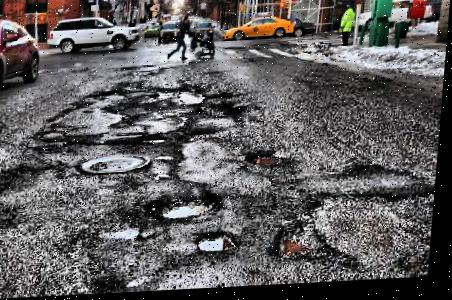pothole: (153, 194, 225, 225), (274, 229, 320, 264), (198, 229, 244, 257), (101, 224, 146, 245), (247, 153, 294, 171), (146, 136, 170, 146)
